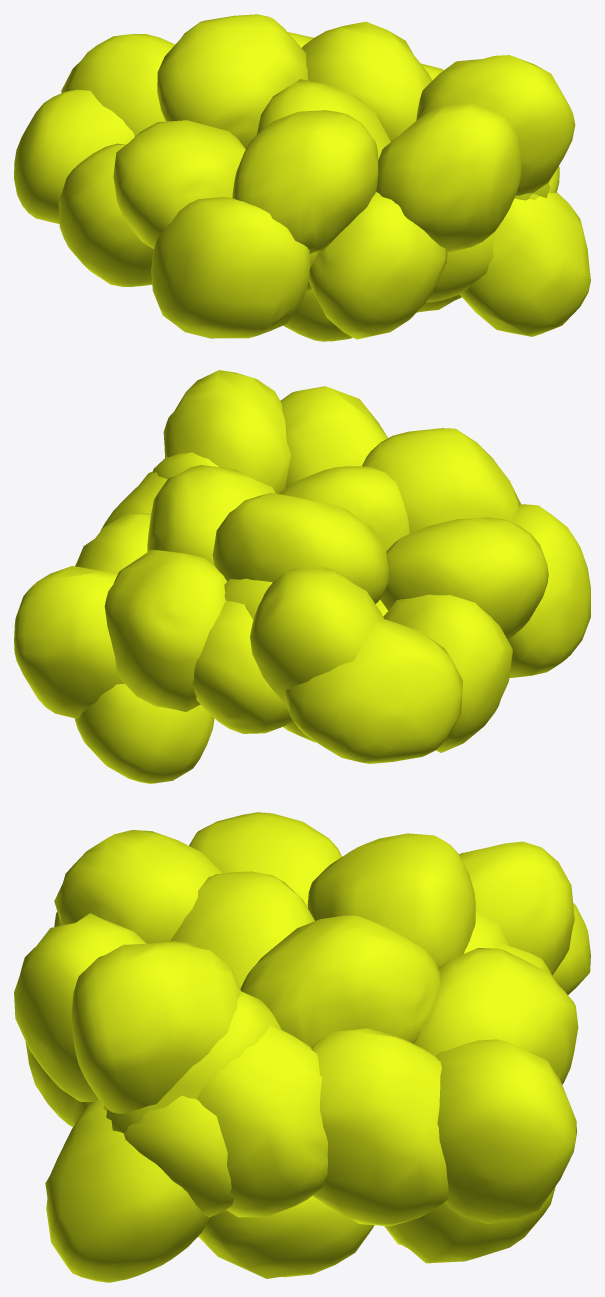
File: Patatas_Medio.FBX
3 renders of one model, top to bottom at view 1: azimuth 30°, elevation 25°; view 2: azimuth 150°, elevation 25°; view 3: azimuth 270°, elevation 25°, orthographic. The views are drawn at different scales.
Visible parts, largest first — view 1: Patata_low163, Patata_low101, Patata_low043, Patata_low014, Patata_low125, Patata_low007, Patata_low077, Patata_low003, Patata_low034, Patata_low028, Patata_low022, Patata_low064 (+3 smaller); view 2: Patata_low028, Patata_low108, Patata_low077, Patata_low014, Patata_low110, Patata_low064, Patata_low003, Patata_low043, Patata_low116, Patata_low022, Patata_low163, Patata_low029 (+7 smaller); view 3: Patata_low115, Patata_low003, Patata_low110, Patata_low034, Patata_low007, Patata_low134, Patata_low014, Patata_low108, Patata_low043, Patata_low101, Patata_low064, Patata_low109 (+8 smaller).
Part boxes in pixels (bbox=[...]): Patata_low163: bbox=[151, 197, 309, 338]; Patata_low101: bbox=[376, 103, 521, 252]; Patata_low043: bbox=[232, 110, 378, 253]; Patata_low014: bbox=[157, 14, 307, 149]; Patata_low125: bbox=[308, 192, 447, 339]; Patata_low007: bbox=[459, 192, 590, 336]; Patata_low077: bbox=[113, 120, 245, 248]; Patata_low003: bbox=[416, 55, 575, 195]; Patata_low034: bbox=[302, 21, 432, 141]; Patata_low028: bbox=[14, 89, 134, 223]; Patata_low022: bbox=[58, 143, 153, 286]; Patata_low064: bbox=[61, 34, 174, 136]; Patata_low028: bbox=[285, 619, 462, 763]; Patata_low108: bbox=[104, 549, 226, 711]; Patata_low077: bbox=[380, 517, 548, 639]; Patata_low014: bbox=[212, 493, 388, 603]; Patata_low110: bbox=[14, 566, 124, 718]; Patata_low064: bbox=[250, 567, 383, 709]; Patata_low003: bbox=[163, 370, 291, 493]; Patata_low043: bbox=[362, 428, 521, 533]; Patata_low116: bbox=[74, 684, 214, 783]; Patata_low022: bbox=[383, 594, 512, 752]; Patata_low163: bbox=[508, 504, 590, 678]; Patata_low029: bbox=[192, 601, 293, 733]; Patata_low115: bbox=[311, 1028, 448, 1226]; Patata_low003: bbox=[71, 941, 241, 1113]; Patata_low110: bbox=[435, 1039, 576, 1223]; Patata_low034: bbox=[240, 915, 440, 1046]; Patata_low007: bbox=[45, 1099, 209, 1282]; Patata_low134: bbox=[197, 1025, 327, 1217]; Patata_low014: bbox=[307, 833, 475, 967]; Patata_low108: bbox=[414, 948, 578, 1084]; Patata_low043: bbox=[54, 830, 223, 943]; Patata_low101: bbox=[14, 913, 146, 1101]; Patata_low064: bbox=[459, 841, 574, 975]; Patata_low109: bbox=[198, 1195, 373, 1278].
Bounding box in the file's own units: 78.89 × 50.11 × 75.41.
